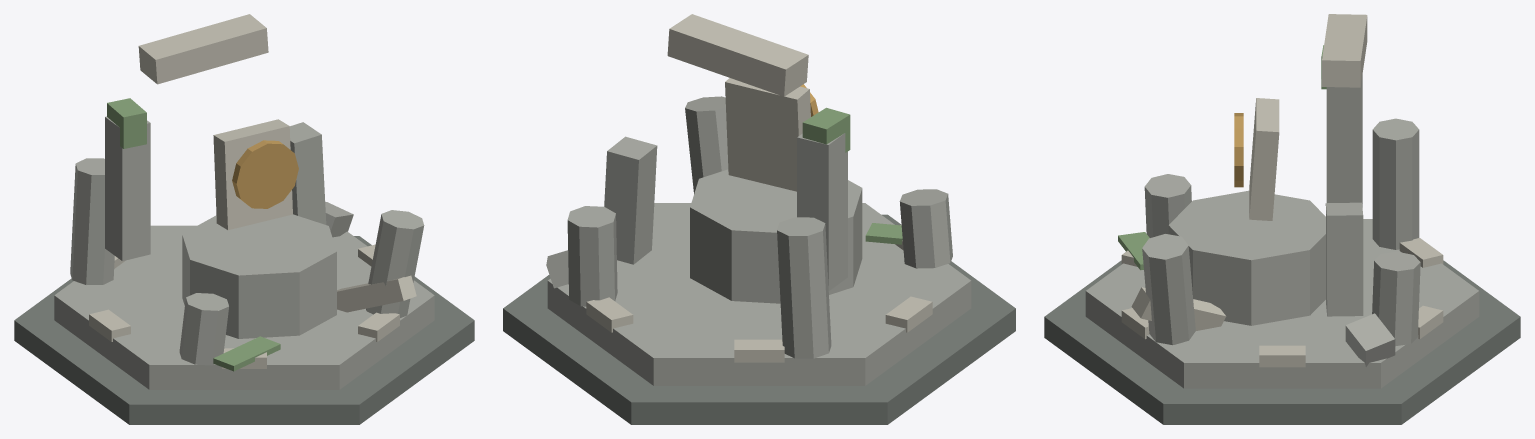
File: ruin-common.glb
The picture shows the model from 3 angles, left to right: view 1: azimuth 30°, elevation 25°; view 2: azimuth 150°, elevation 25°; view 3: azimuth 270°, elevation 25°; orthographic projection. The views are drawn at different scales.
Visible parts, largest first — view 1: ruin_base_upper, ruin_base_lower, altar, arch_left, arch_lintel, broken_pillar_1, tablet, broken_pillar_3, tablet_seal, broken_pillar_2, arch_right_broken, fallen_column (+5 smaller); view 2: ruin_base_upper, ruin_base_lower, altar, tablet, broken_pillar_1, arch_lintel, arch_left, arch_right_broken, broken_pillar_0, broken_pillar_2, broken_pillar_3, moss_arch (+5 smaller); view 3: ruin_base_lower, ruin_base_upper, altar, broken_pillar_1, broken_pillar_3, arch_right_broken, arch_left, broken_pillar_0, tablet, arch_lintel, broken_pillar_2, arch_missing_fragment (+7 smaller).
Part boxes in pixels (bbox=[...]): ruin_base_upper: bbox=[54, 225, 434, 389]; ruin_base_lower: bbox=[14, 236, 474, 424]; altar: bbox=[182, 214, 336, 338]; arch_left: bbox=[105, 116, 150, 261]; arch_lintel: bbox=[138, 14, 268, 84]; broken_pillar_1: bbox=[70, 158, 114, 284]; tablet: bbox=[213, 119, 292, 230]; broken_pillar_3: bbox=[366, 210, 424, 317]; tablet_seal: bbox=[232, 140, 298, 208]; broken_pillar_2: bbox=[179, 293, 228, 365]; arch_right_broken: bbox=[289, 122, 326, 224]; fallen_column: bbox=[337, 275, 416, 312]; ruin_base_upper: bbox=[547, 203, 971, 385]; ruin_base_lower: bbox=[503, 214, 1015, 424]; altar: bbox=[690, 169, 862, 303]; tablet: bbox=[725, 78, 810, 191]; broken_pillar_1: bbox=[777, 217, 831, 358]; arch_lintel: bbox=[667, 14, 808, 96]; arch_left: bbox=[797, 133, 847, 290]; arch_right_broken: bbox=[604, 136, 657, 264]; broken_pillar_0: bbox=[567, 206, 617, 306]; broken_pillar_2: bbox=[899, 189, 952, 268]; broken_pillar_3: bbox=[685, 96, 728, 193]; moss_arch: bbox=[802, 107, 850, 152]; ruin_base_lower: bbox=[1044, 260, 1520, 424]; ruin_base_upper: bbox=[1085, 219, 1479, 388]; altar: bbox=[1168, 190, 1325, 325]; broken_pillar_1: bbox=[1372, 118, 1419, 249]; broken_pillar_3: bbox=[1142, 234, 1195, 345]; arch_right_broken: bbox=[1325, 202, 1363, 316]; arch_left: bbox=[1326, 75, 1362, 207]; broken_pillar_0: bbox=[1372, 251, 1420, 346]; tablet: bbox=[1249, 98, 1279, 220]; arch_lintel: bbox=[1321, 14, 1367, 87]; broken_pillar_2: bbox=[1144, 174, 1191, 237]; arch_missing_fragment: bbox=[1345, 313, 1395, 366].
Size of the model in its own units: 0.7967 by 0.6362 by 0.92.
